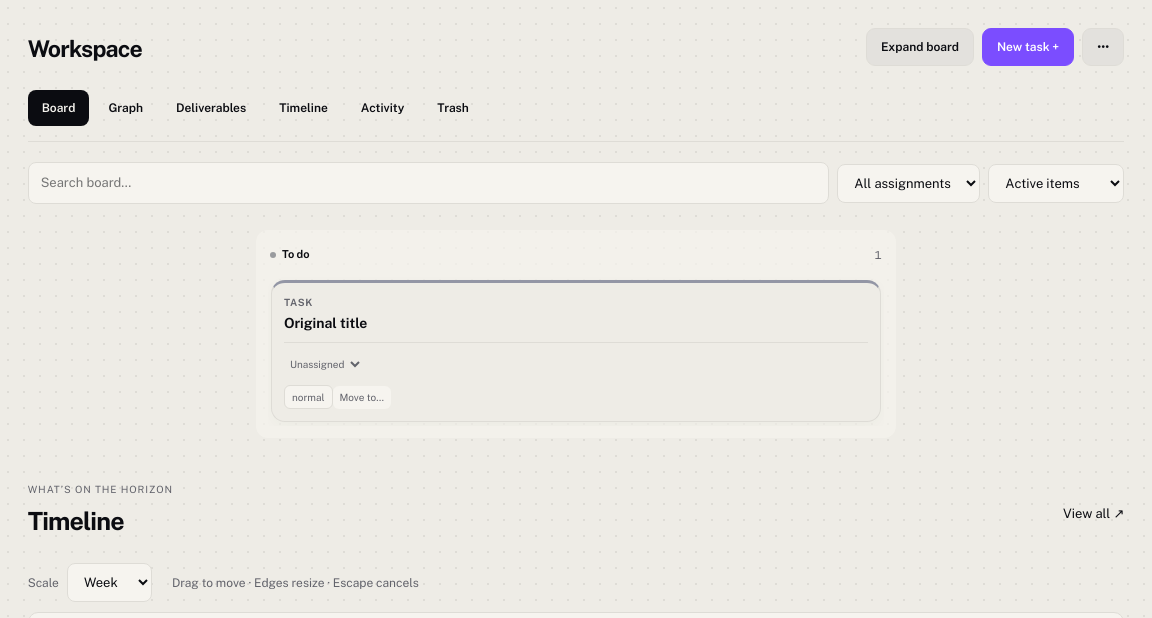
Test: refreshes from environment invalidations without discarding an open editor
The width and height of the screenshot is (1152, 618).
Click the button "Original title": {"x": 326, "y": 324} left=284, top=314, right=367, bottom=334
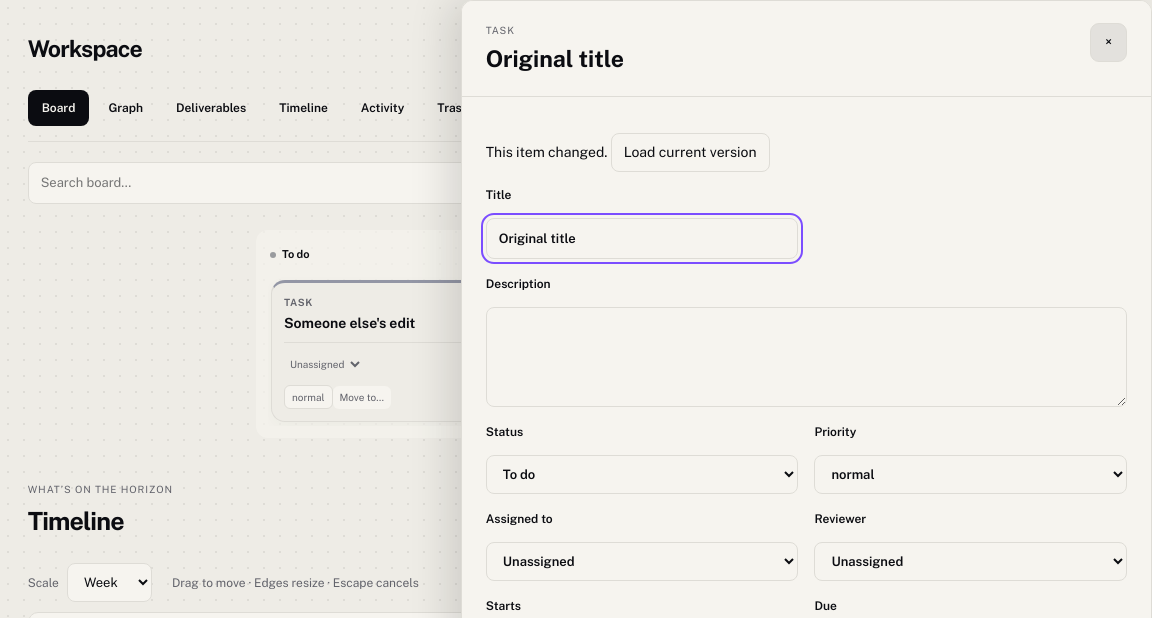
Expected: the button "Someone else's edit" is shown, left=284, top=314, right=415, bottom=334
Expected: the field labelled "Title" holds "Original title", left=486, top=218, right=798, bottom=259
Click the button "Load current version": {"x": 690, "y": 152} left=611, top=133, right=770, bottom=172
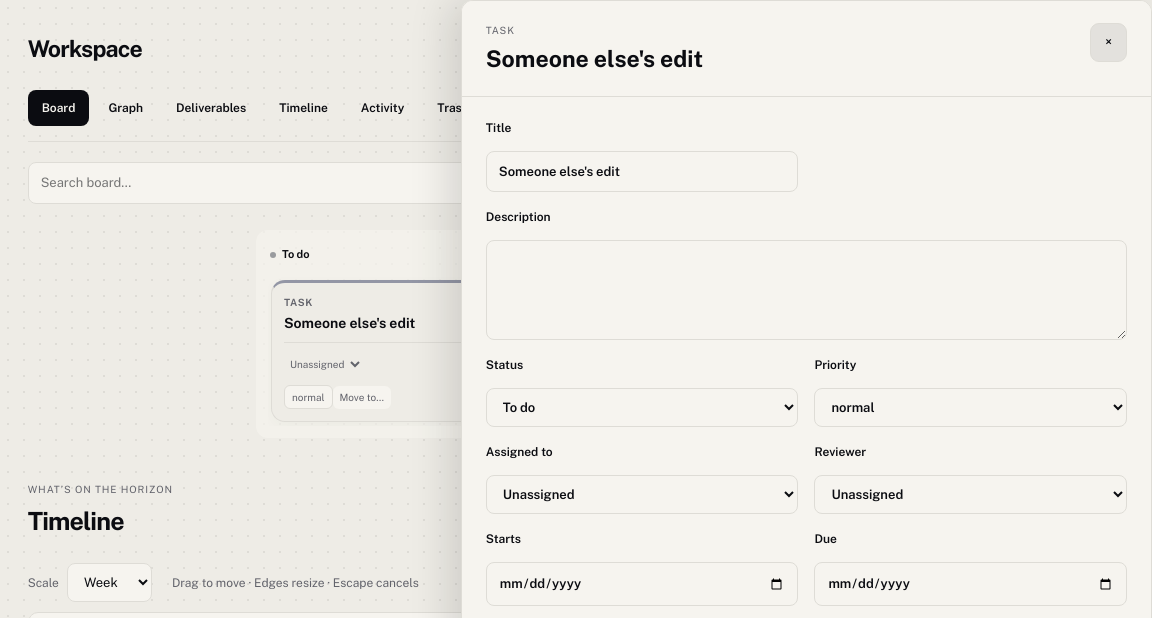
Expected: the field labelled "Title" holds "Someone else's edit", left=486, top=151, right=798, bottom=192
